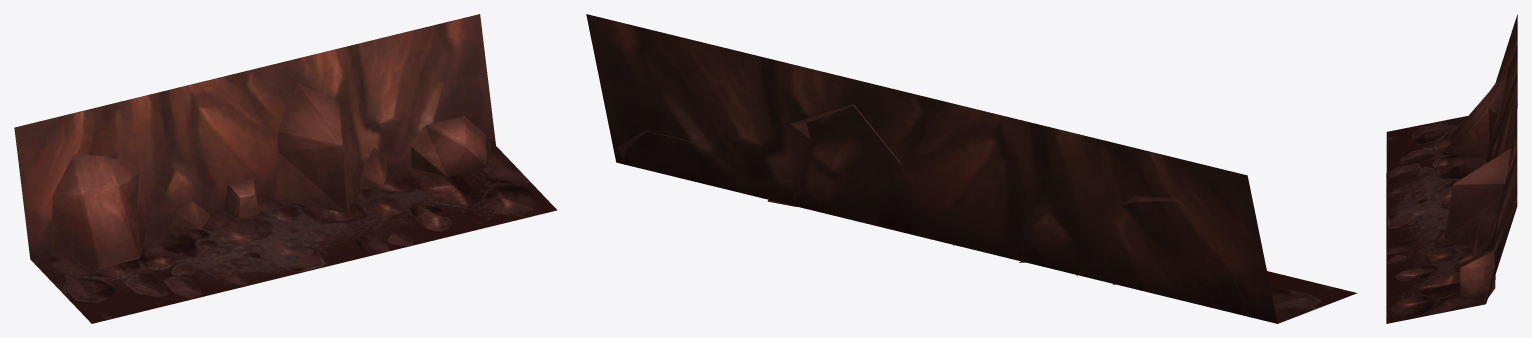
File: lava_trim_straight_01.fbx
3 views of the same model, side by side, from view 1: azimuth 30°, elevation 25°; view 2: azimuth 150°, elevation 25°; view 3: azimuth 270°, elevation 25° (orthographic). The views are drawn at different scales.
Parts seen in each view (by area): view 1: obj1.025; view 2: obj1.025; view 3: obj1.025.
Boxes of the visible parts, x1,y1,x2,y2 form: obj1.025: [14, 14, 557, 323]; obj1.025: [586, 14, 1357, 323]; obj1.025: [1386, 14, 1517, 323].
Bounding box in the file's own units: 4.02 × 1.15 × 1.15.
